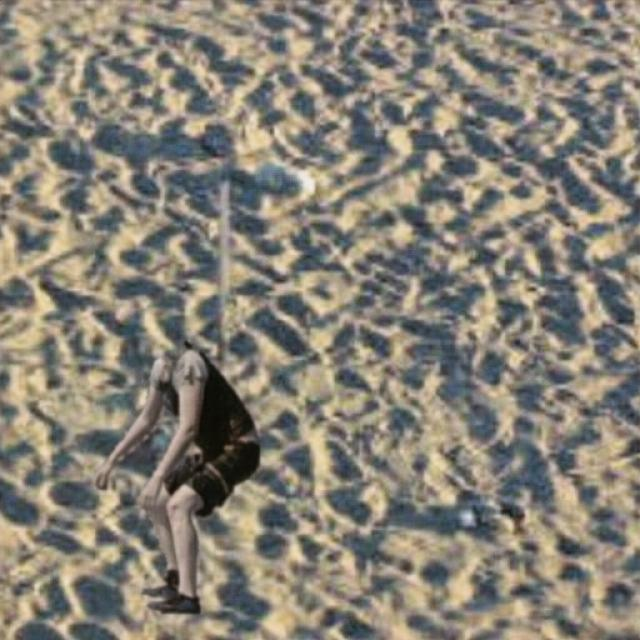Person in Rubble: (94, 338, 258, 612)
